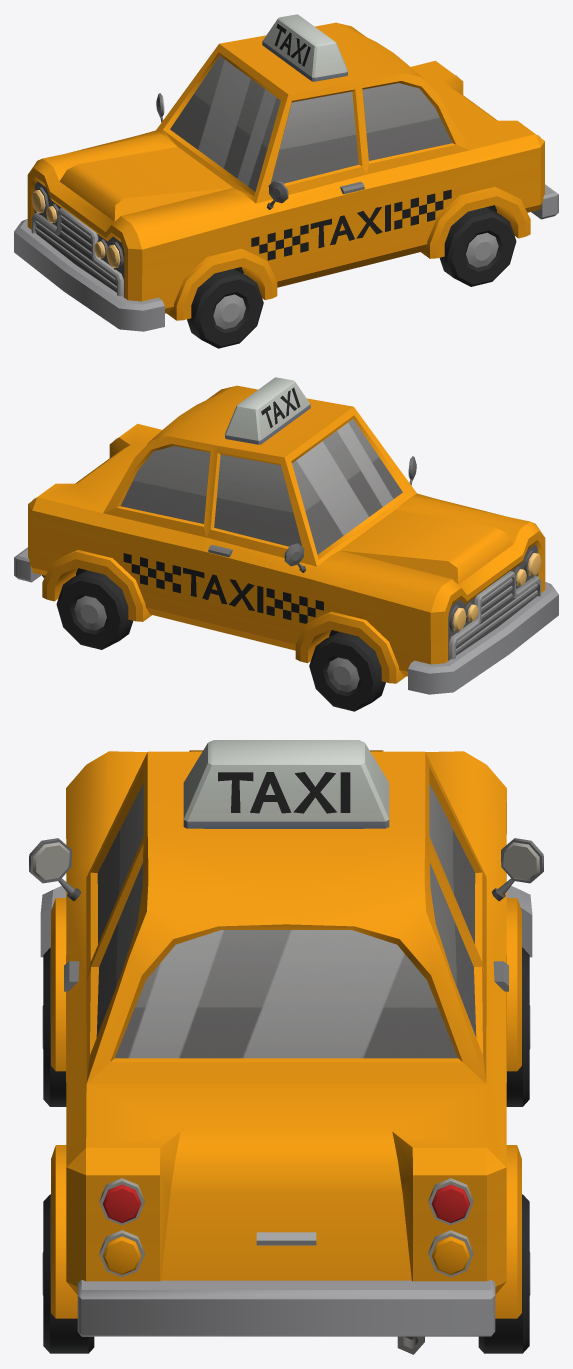
File: Taxi_2.gltf
3 renders of one model, top to bottom at view 1: azimuth 30°, elevation 25°; view 2: azimuth 150°, elevation 25°; view 3: azimuth 270°, elevation 25°, orthographic. The views are drawn at different scales.
Visible parts, largest first — view 1: Taxi_2, FL, RL; view 2: Taxi_2, FR, RR; view 3: Taxi_2, RL, RR, FL, FR.
Part boxes in pixels (x1,y1,x2,y2): Taxi_2: (14, 14, 558, 331); FL: (187, 269, 263, 348); RL: (439, 207, 516, 286); Taxi_2: (14, 377, 558, 694); FR: (309, 632, 385, 711); RR: (56, 570, 133, 649); Taxi_2: (29, 740, 543, 1354); RL: (42, 1194, 94, 1353); RR: (478, 1194, 530, 1353); FL: (42, 947, 66, 1106); FR: (506, 947, 530, 1106).
Size of the model in its own units: 3.38 by 1.75 by 1.7.
4 materials, 4 textured.
